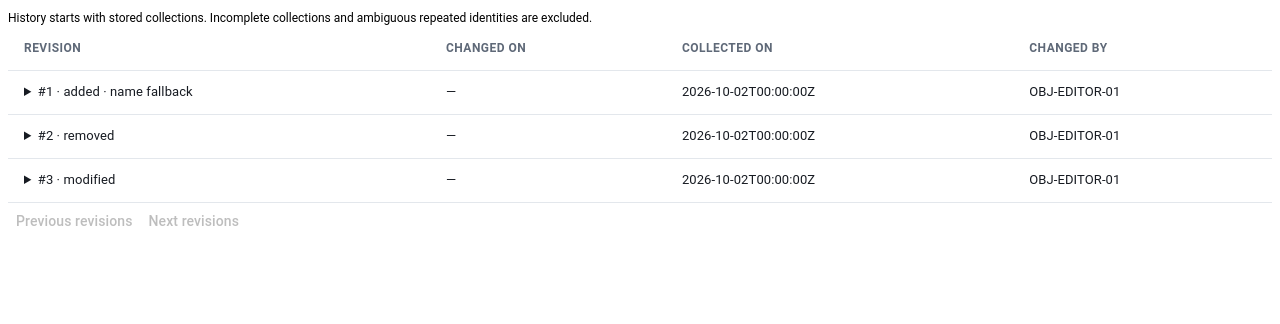
Scenario: renders history added/removed/modified and expandable field changes with name fallback
The image size is (1280, 324).
Expected: the heading "#1 · added · name fallback" is shown, [38,84,193,99]
Click the heading "#3 · modified". click: (77, 180)
box: [38,172,116,187]
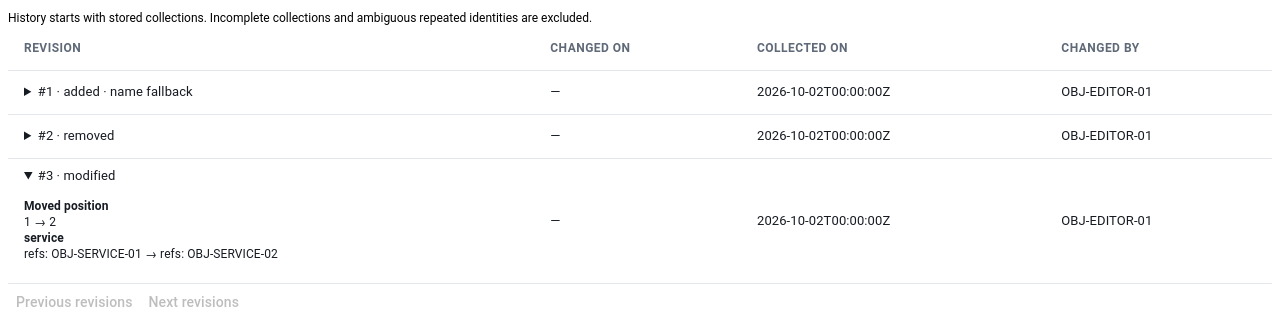
Result: the text "Moved position" is shown 3 times
